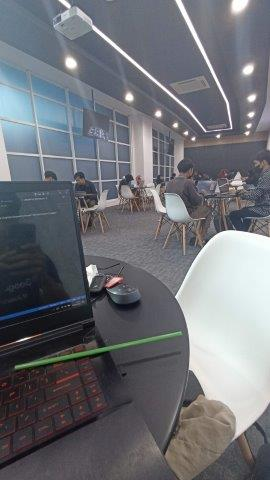sedotan: (15, 332, 181, 370)
